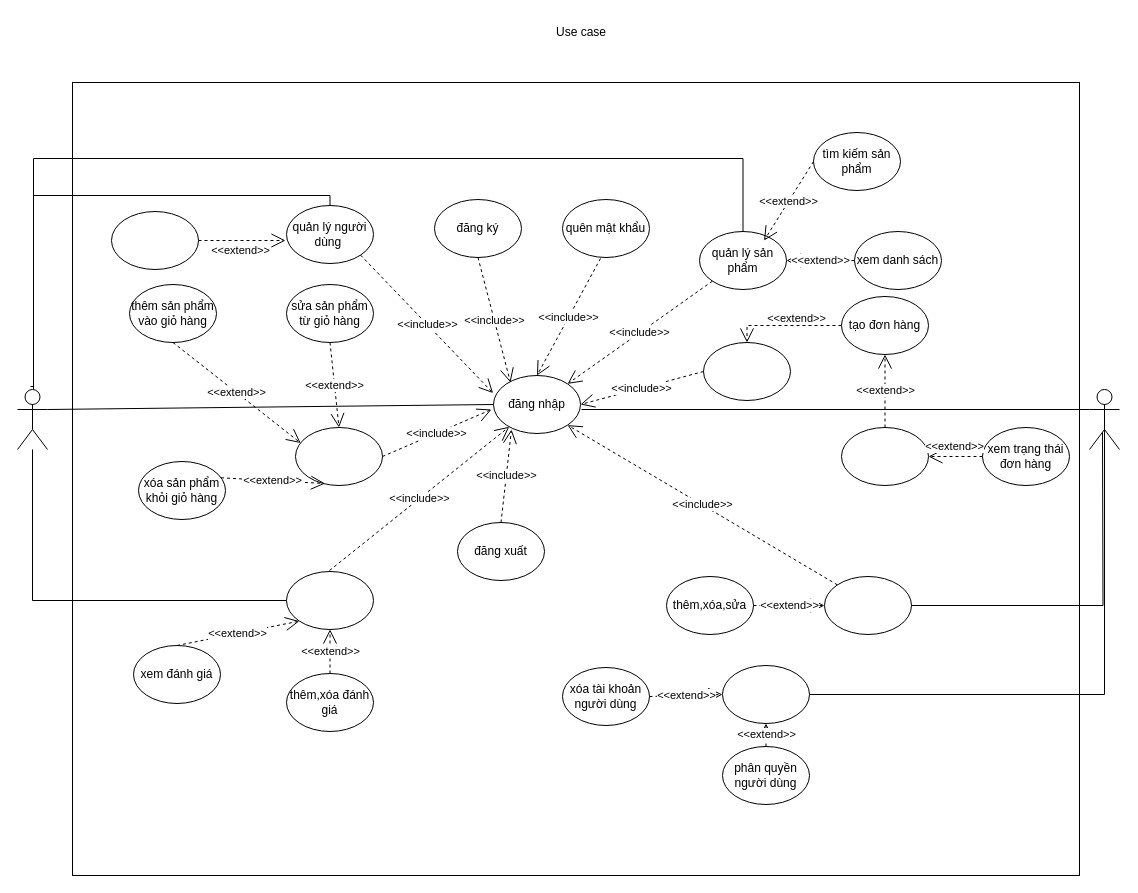
This 1138x893 diagram has some shape labels left out. Each missing label, with the box of its shape:
admin: (1088, 388, 1120, 450)
cập nhật thông tin: (110, 210, 198, 270)
quản lý danh mục sản phẩm: (824, 576, 912, 634)
quản lý giỏ hàng: (294, 426, 382, 486)
quản lý tài khoản: (722, 664, 810, 724)
quản lý đánh giá: (286, 570, 374, 630)
quản lý đăt hàng: (702, 342, 790, 400)
thanh toán: (840, 426, 928, 486)
user: (16, 388, 48, 450)
